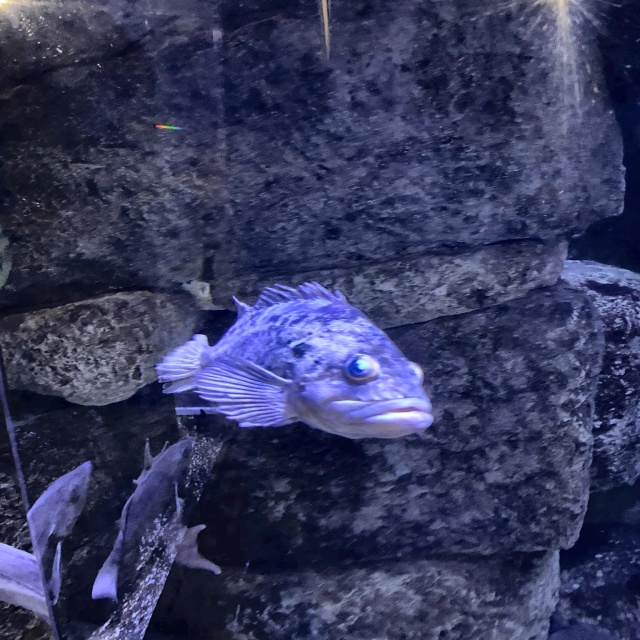fish: (157, 284, 433, 441)
